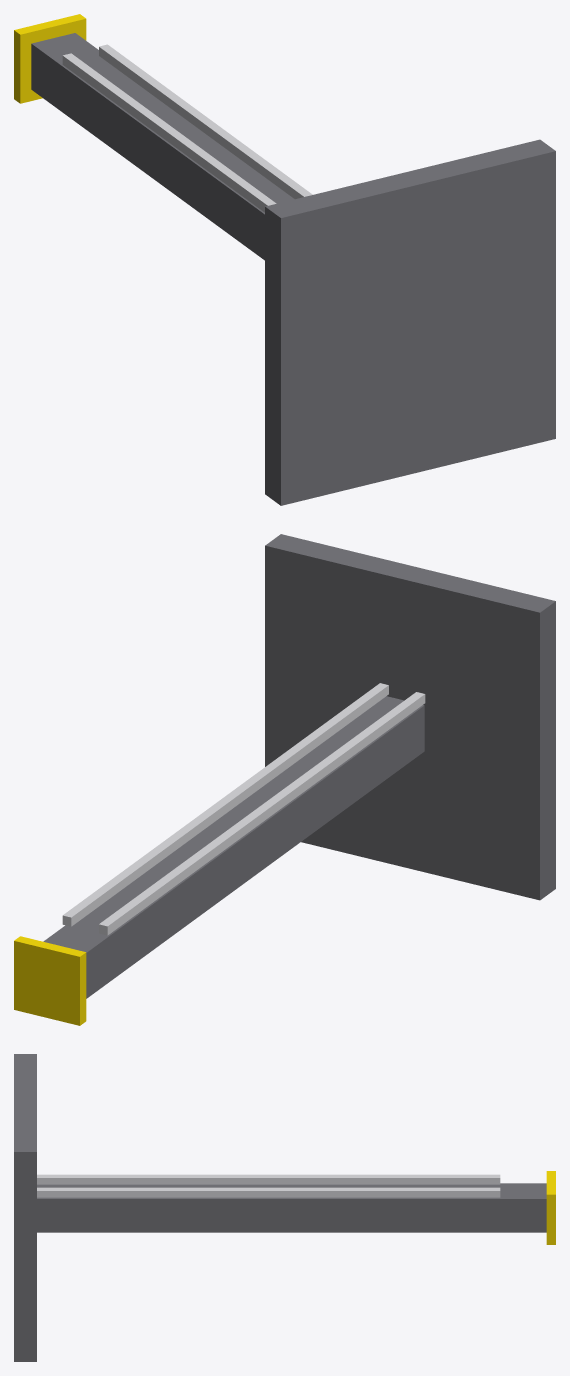
File: StringerFrame.glb
3 renders of one model, top to bottom at view 1: azimuth 30°, elevation 25°; view 2: azimuth 150°, elevation 25°; view 3: azimuth 270°, elevation 25°, orthographic. The views are drawn at different scales.
Parts seen in each view (by area): view 1: Base, Mast, RailL, RailR, MastTop, FootR; view 2: Base, Mast, RailL, RailR, MastTop; view 3: Mast, Base, RailL, RailR, MastTop.
Boxes of the visible parts, x1=… form: Base: x1=265, y1=139, x2=555, y2=505; Mast: x1=31, y1=33, x2=294, y2=260; RailL: x1=62, y1=53, x2=276, y2=212; RailR: x1=99, y1=44, x2=312, y2=199; MastTop: x1=14, y1=14, x2=86, y2=103; FootR: x1=506, y1=184, x2=539, y2=411; Base: x1=265, y1=534, x2=555, y2=900; Mast: x1=43, y1=696, x2=424, y2=998; RailL: x1=99, y1=692, x2=425, y2=935; RailR: x1=62, y1=683, x2=388, y2=926; MastTop: x1=14, y1=936, x2=86, y2=1025; Mast: x1=37, y1=1183, x2=546, y2=1232; Base: x1=14, y1=1054, x2=36, y2=1361; RailL: x1=37, y1=1174, x2=500, y2=1184; RailR: x1=37, y1=1187, x2=500, y2=1197; MastTop: x1=546, y1=1171, x2=555, y2=1244.
Bounding box in the file's own units: 0.5 × 0.5 × 1.17.
